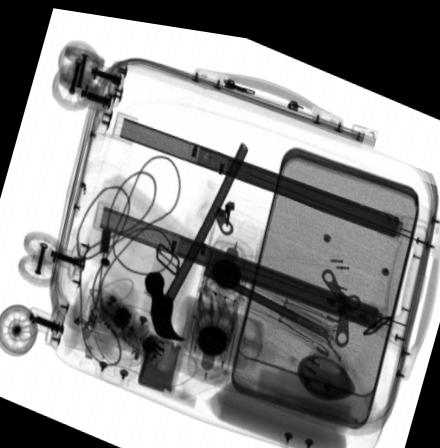Hammer: (144, 133, 248, 334)
